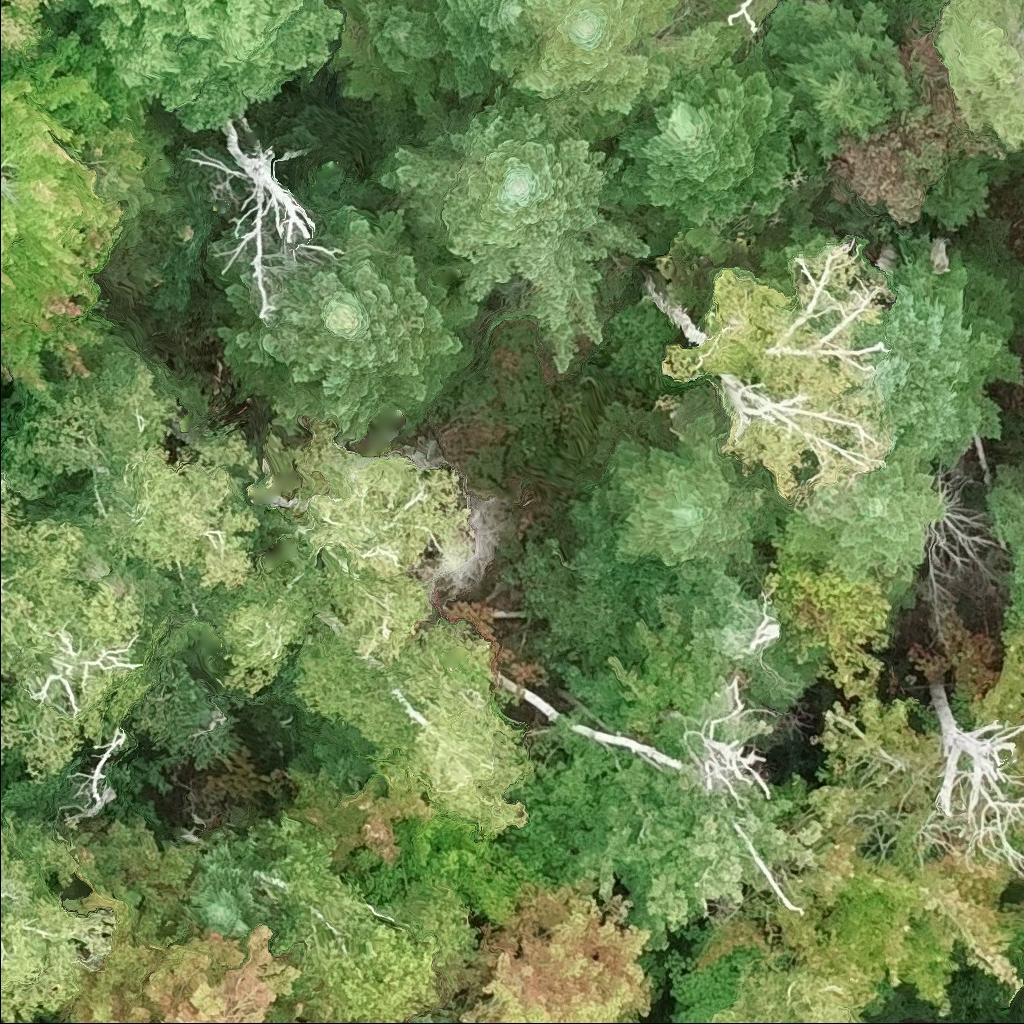crown: (368, 81, 648, 372), (196, 417, 477, 698), (3, 335, 284, 603), (210, 171, 477, 446), (0, 19, 147, 408), (278, 616, 535, 838), (765, 801, 1023, 1018), (259, 810, 479, 1023), (660, 268, 901, 462), (0, 485, 156, 782), (54, 0, 344, 134), (859, 233, 1023, 468), (821, 13, 1004, 222), (566, 405, 796, 571), (613, 40, 803, 225), (53, 903, 340, 1023), (183, 115, 345, 322), (498, 0, 744, 119), (458, 874, 653, 1023), (770, 442, 949, 599), (761, 0, 919, 162), (0, 808, 117, 1023), (573, 539, 762, 663), (763, 547, 894, 701), (810, 692, 947, 831), (929, 683, 1023, 882), (283, 765, 435, 871), (71, 821, 202, 942), (718, 412, 865, 502), (326, 0, 442, 114), (179, 827, 281, 954), (707, 956, 887, 1023), (416, 0, 536, 100), (986, 459, 1023, 628), (0, 0, 75, 60)
